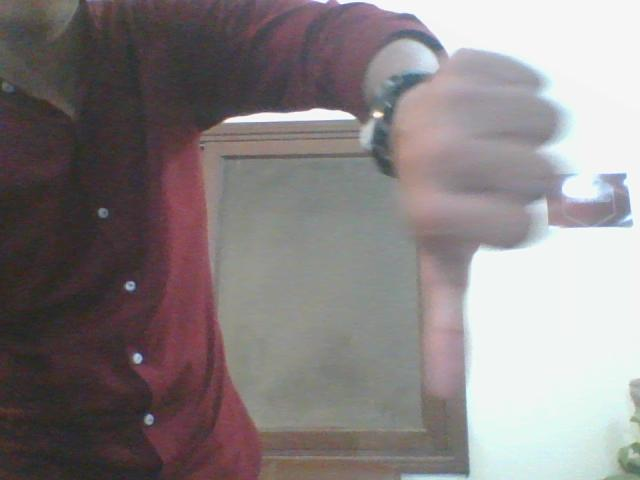thumbs-down: (386, 51, 580, 407)
